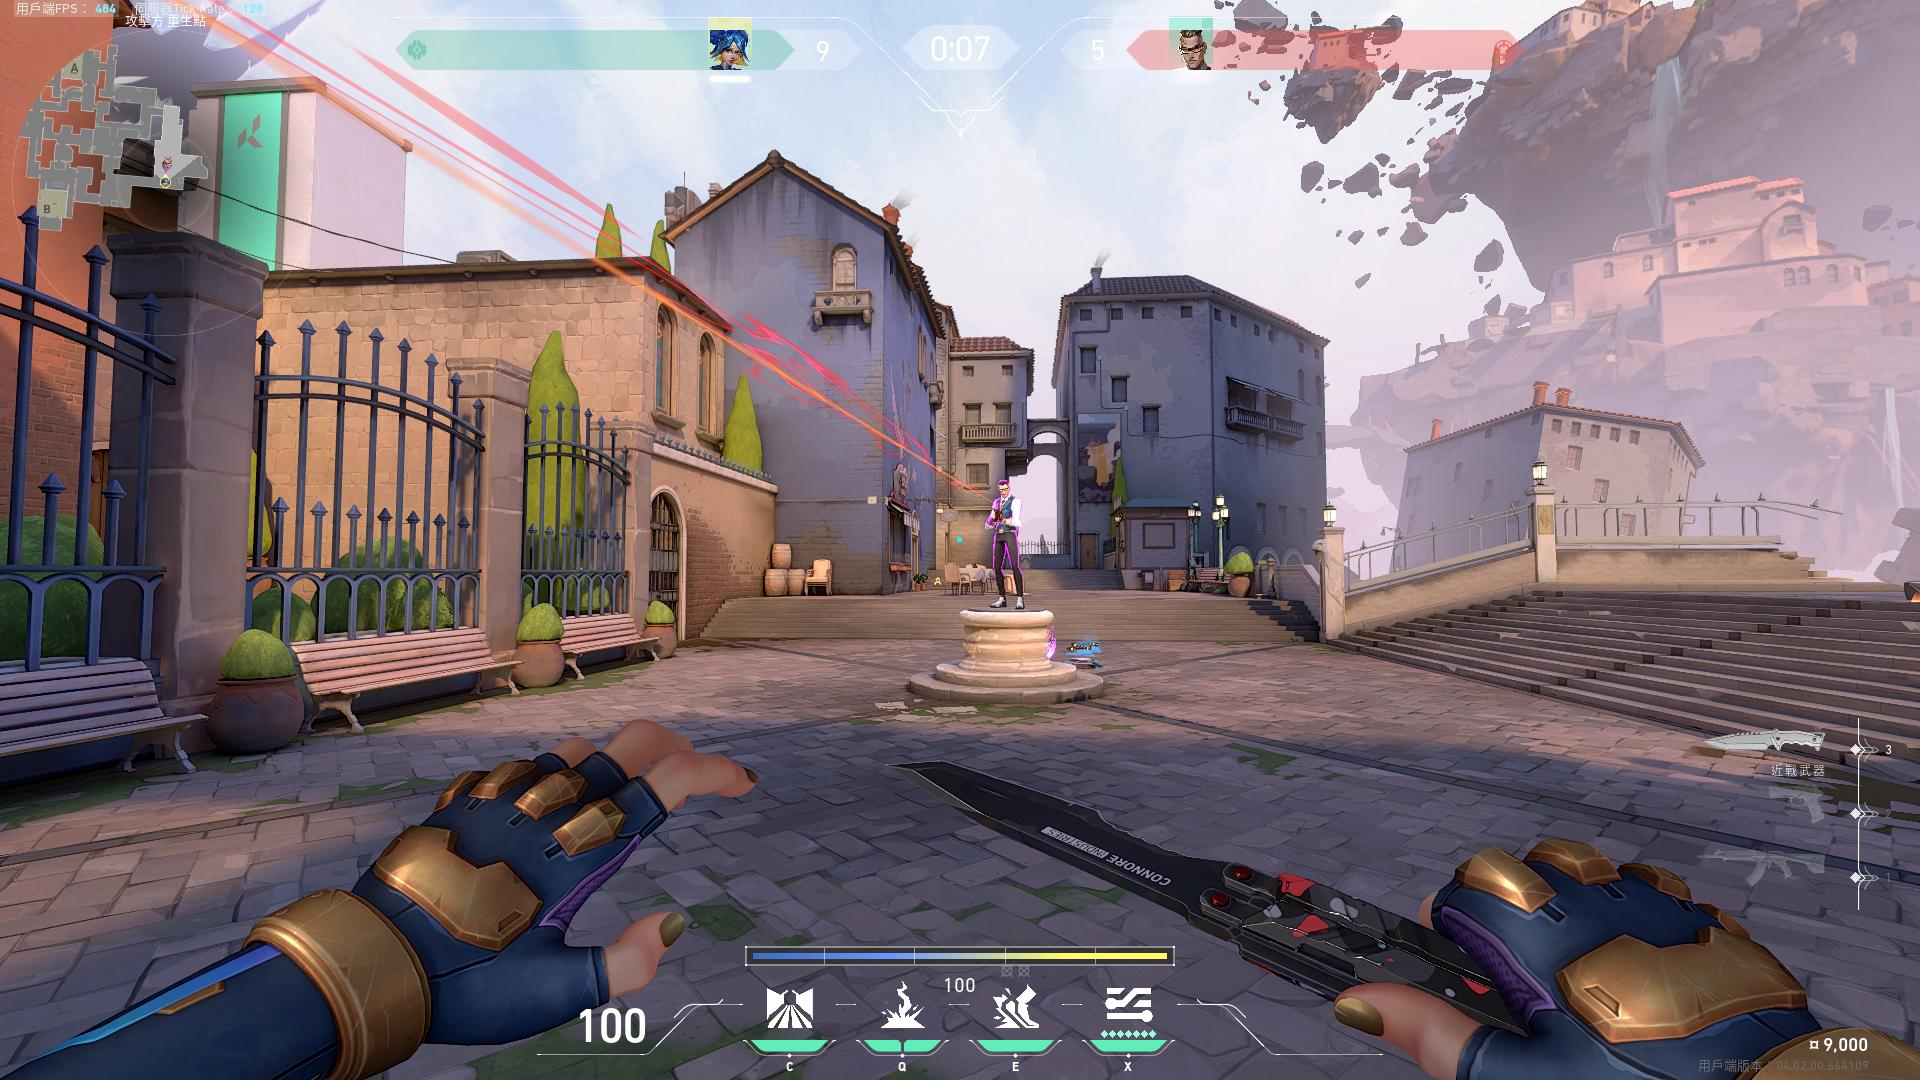enemyBody: (997, 501, 1015, 527)
enemyHead: (1000, 483, 1009, 496)
